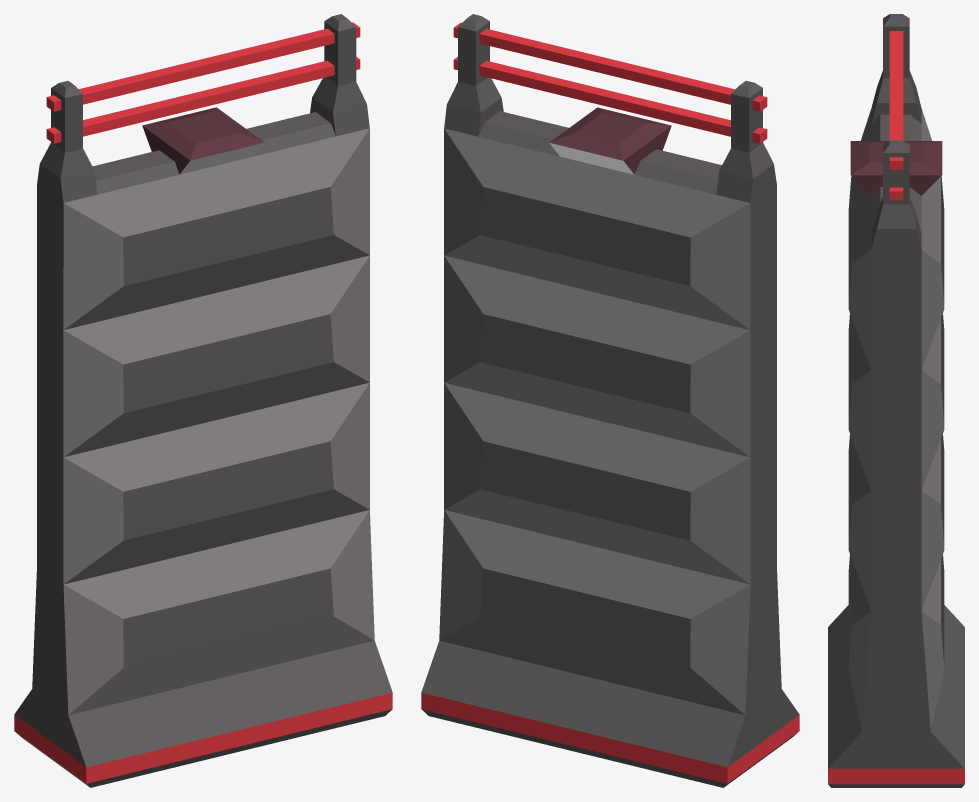
The model's file is scifi-barrier-large-electric.fbx.
The picture shows the model from 3 angles, left to right: view 1: azimuth 30°, elevation 25°; view 2: azimuth 150°, elevation 25°; view 3: azimuth 270°, elevation 25°; orthographic projection. The views are drawn at different scales.
Parts seen in each view (by area): view 1: scifi-barrier-large-electric; view 2: scifi-barrier-large-electric; view 3: scifi-barrier-large-electric.
Part boxes in pixels (x1,y1,x2,y2): scifi-barrier-large-electric: (14, 14, 392, 787); scifi-barrier-large-electric: (421, 14, 799, 787); scifi-barrier-large-electric: (828, 14, 964, 787).
Size of the model in its own units: 2.01 by 4.24 by 0.8201.
